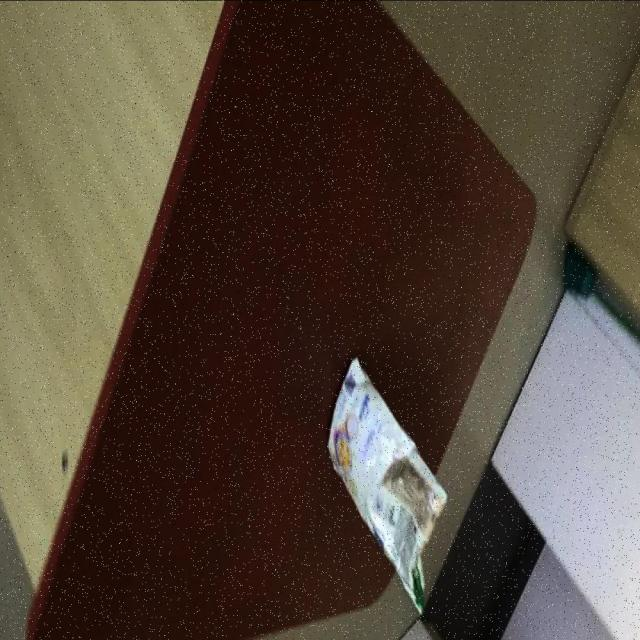CornFlakes: (325, 357, 448, 616)
